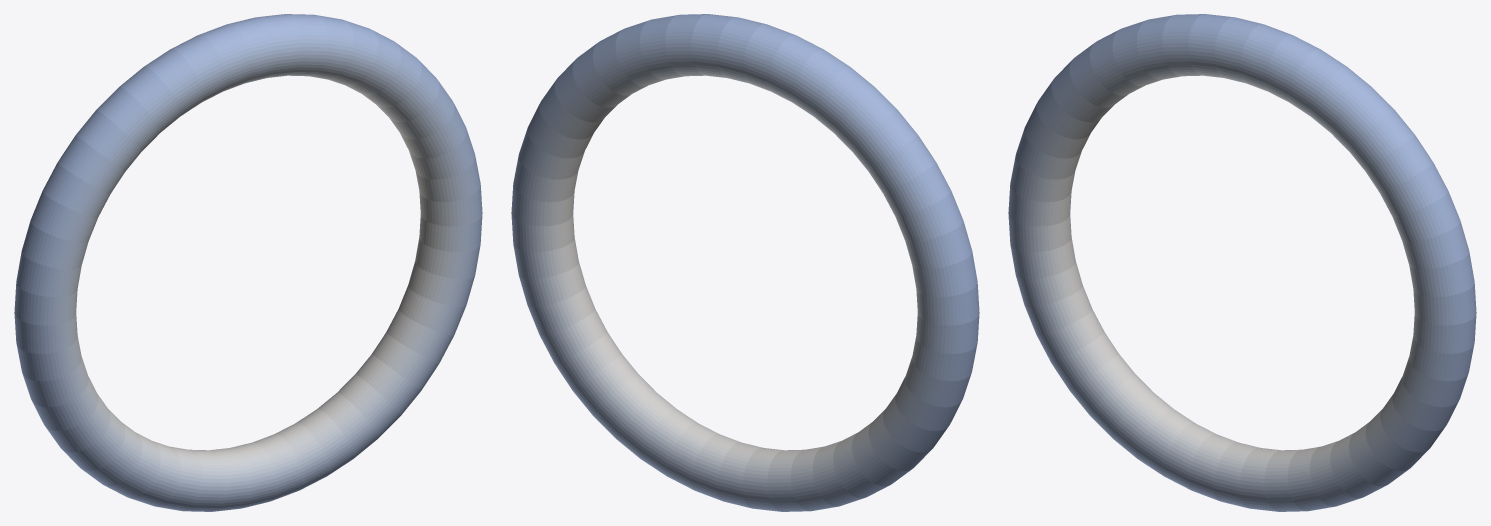
The picture shows the model from 3 angles, left to right: view 1: azimuth 30°, elevation 25°; view 2: azimuth 150°, elevation 25°; view 3: azimuth 330°, elevation 25°; orthographic projection.
Visible parts, largest first — view 1: world; view 2: world; view 3: world.
Part boxes in pixels (x1,y1,x2,y2): world: (14,14,482,511); world: (511,14,979,511); world: (1008,14,1476,511).
Size of the model in its own units: 30.93 by 30.87 by 3.59.
